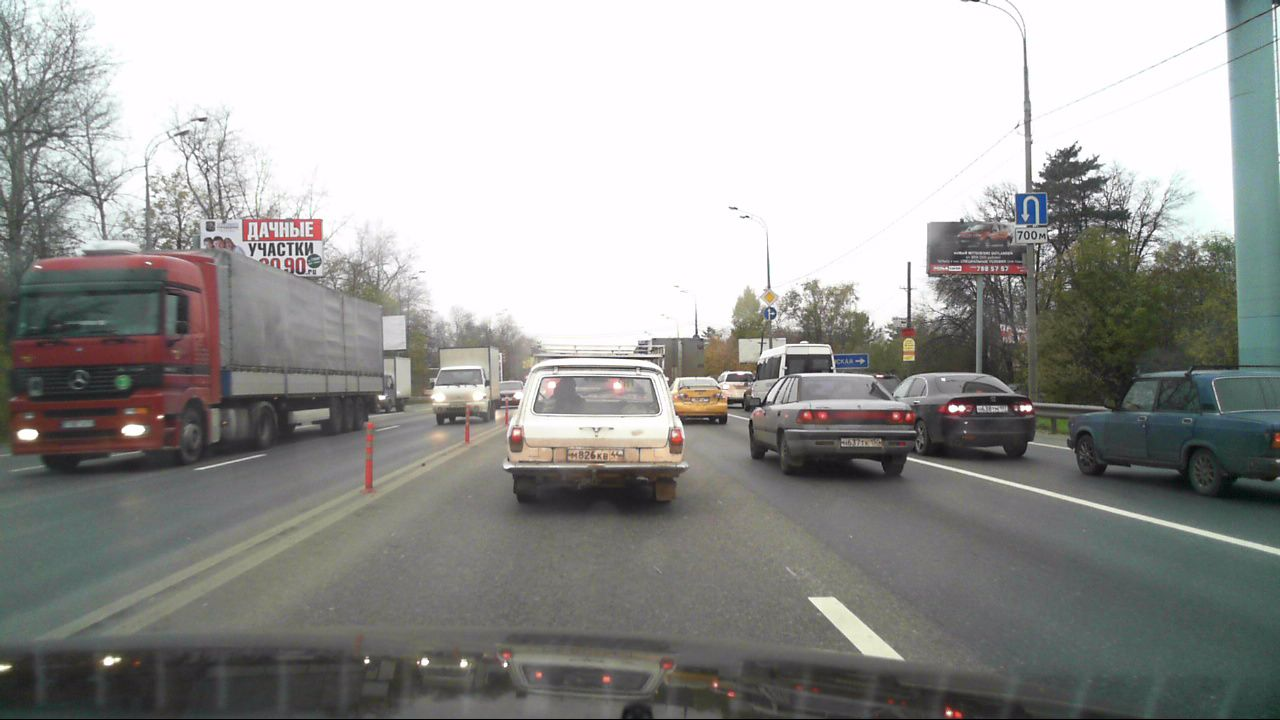U-turn: (1015, 194, 1047, 225)
